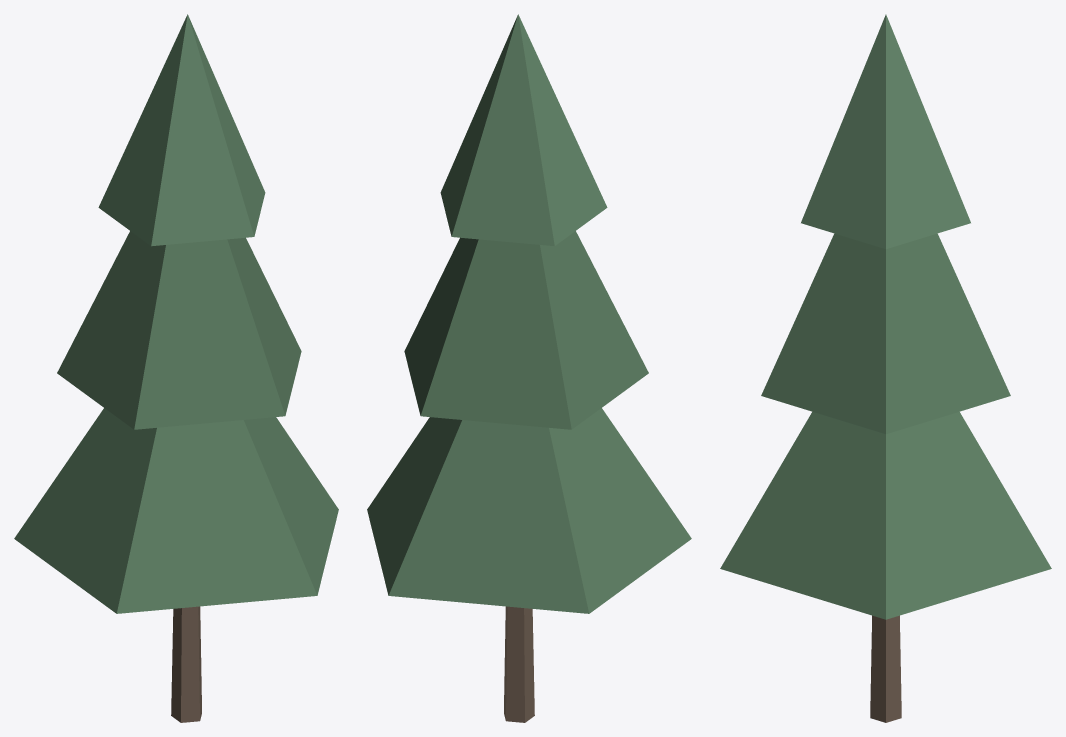
The model's file is env_tree_pine_a_lod1.glb.
3 renders of one model, left to right at view 1: azimuth 30°, elevation 25°; view 2: azimuth 150°, elevation 25°; view 3: azimuth 270°, elevation 25°, orthographic.
Parts seen in each view (by area): view 1: pine_0; view 2: pine_0; view 3: pine_0.
Part boxes in pixels (bbox=[...]): pine_0: bbox=[14, 14, 338, 722]; pine_0: bbox=[367, 14, 691, 722]; pine_0: bbox=[720, 14, 1051, 722].
Bounding box in the file's own units: 4.59 × 11.28 × 4.83.
